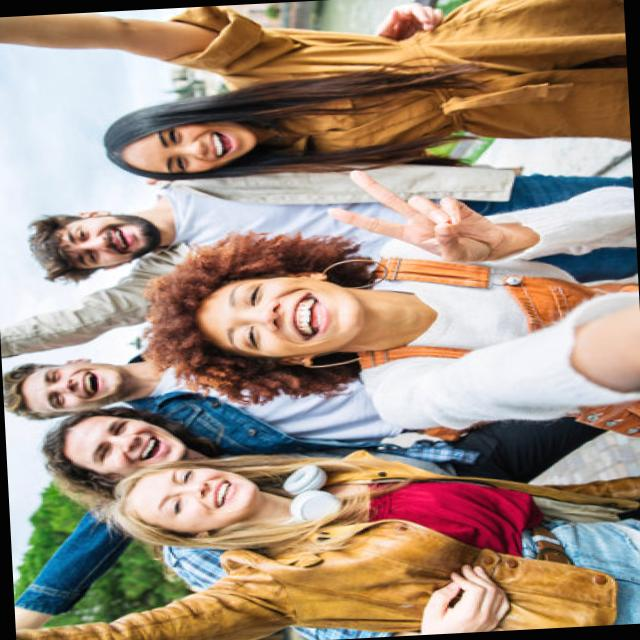Hand: (320, 156, 518, 272), (416, 558, 516, 636), (372, 0, 446, 43)
